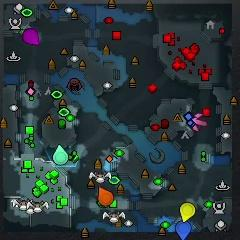p1: (175, 221, 191, 240)
p2: (53, 144, 68, 165)
p3: (23, 28, 40, 45)
p4: (180, 201, 195, 223)
p5: (98, 185, 113, 208)
x1: (189, 114, 210, 131)
